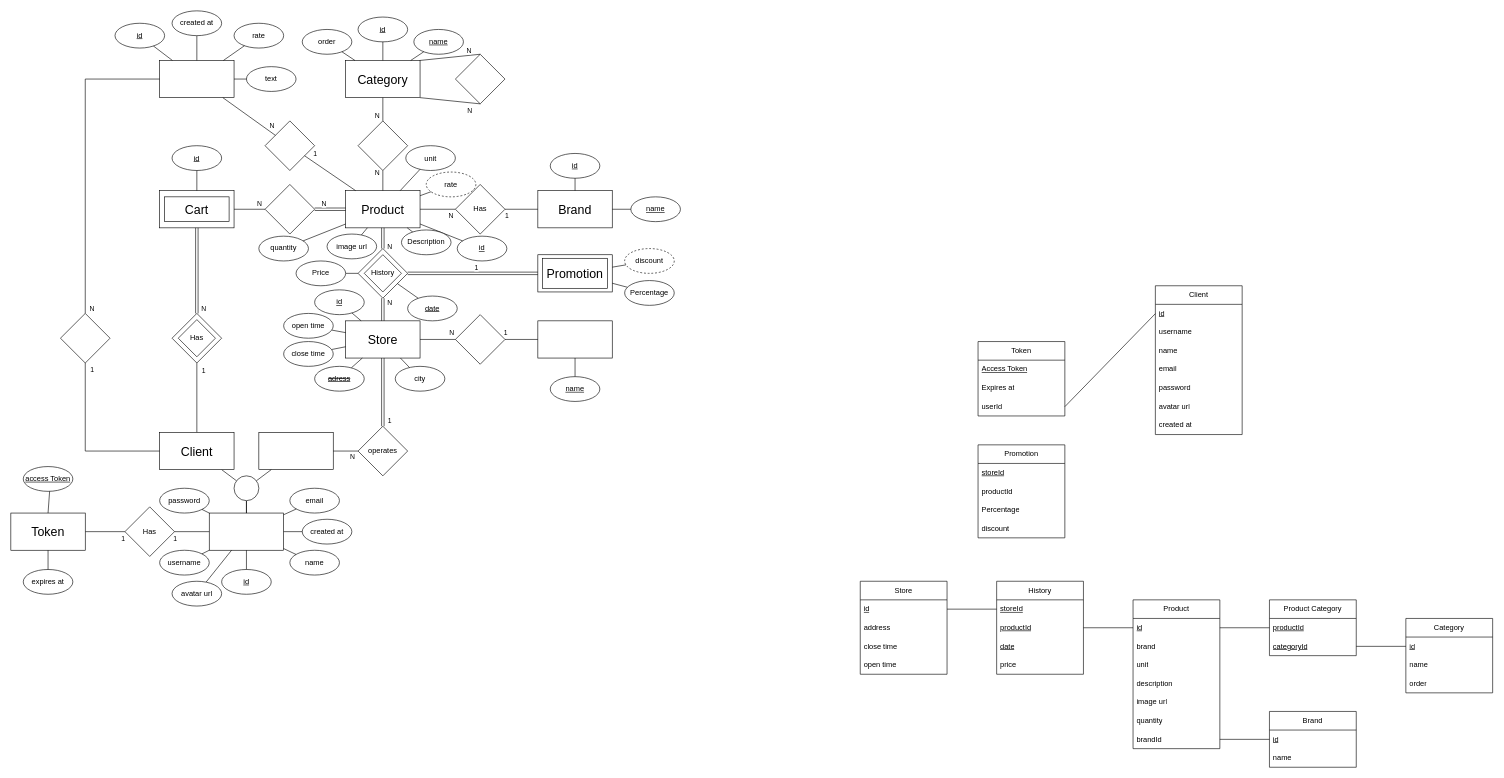
The diagram is 1504 pixels wide and 778 high, and some of its shapes have lost their labels. The centre of each missing label's shape, as x and y in pixels:
"Belongs" belongs at point (480, 339).
"Children" belongs at point (480, 79).
"Comment" belongs at point (196, 79).
"Company" belongs at point (574, 339).
"Operator" belongs at point (295, 451).
"User" belongs at point (246, 531).
"Writes" belongs at point (85, 338).
